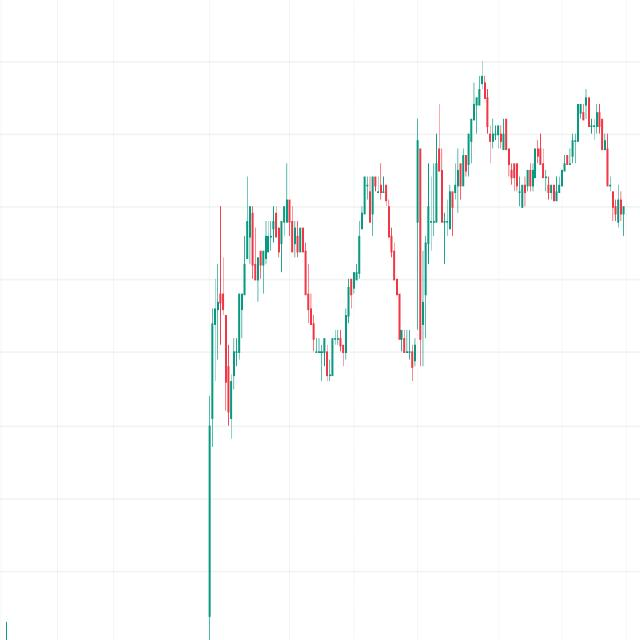Ascending-Triangle: (202, 189, 340, 502)
